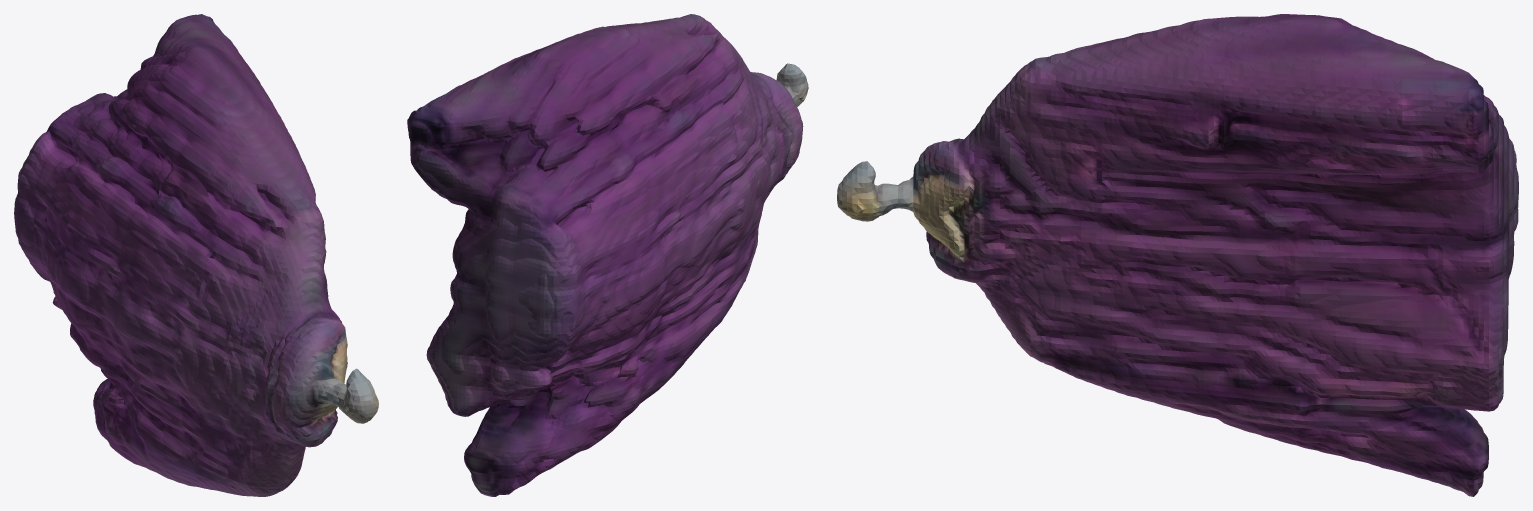
3 views of the same model, side by side, from view 1: azimuth 30°, elevation 25°; view 2: azimuth 150°, elevation 25°; view 3: azimuth 270°, elevation 25° (orthographic). The views are drawn at different scales.
Visible parts, largest first — view 1: geometry_0; view 2: geometry_0; view 3: geometry_0.
Part boxes in pixels (<box>): geometry_0: <box>14,14,378,496</box>; geometry_0: <box>407,14,808,496</box>; geometry_0: <box>837,14,1518,496</box>.
Size of the model in its own units: 0.3535 by 0.7016 by 0.9134.
